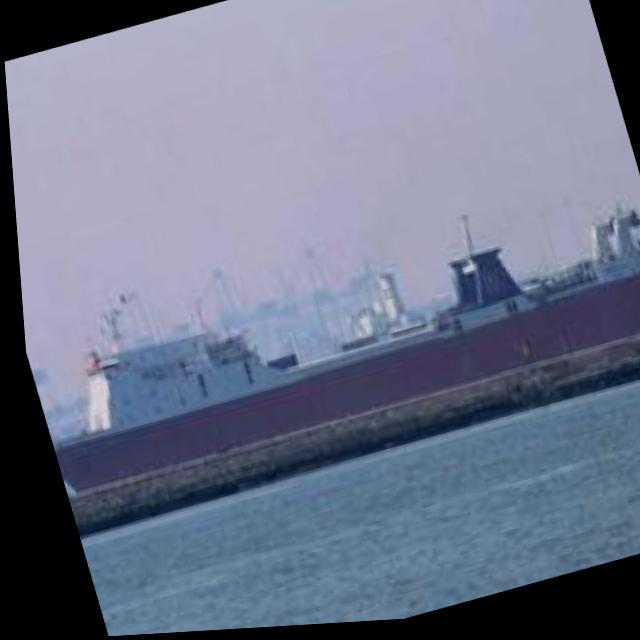ship2: (45, 204, 640, 497)
